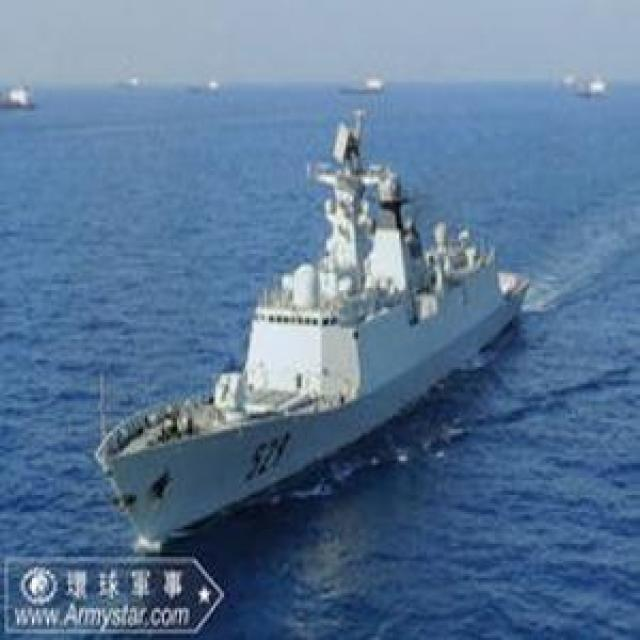navalvessels: (75, 108, 557, 548), (323, 66, 389, 88), (0, 82, 46, 108), (576, 76, 617, 96)
